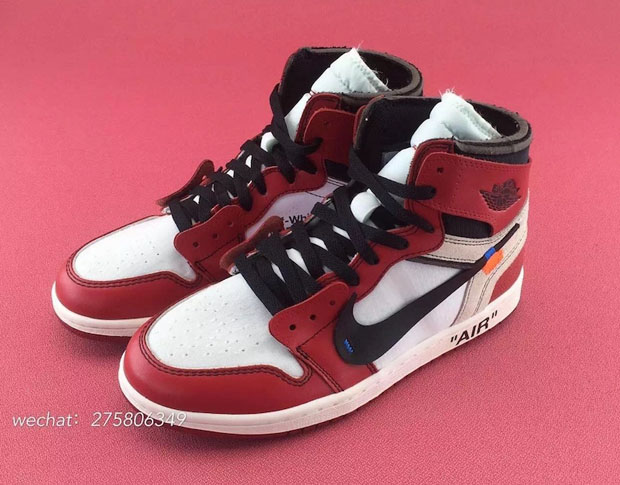shoes: (112, 95, 535, 448), (48, 41, 436, 346)
